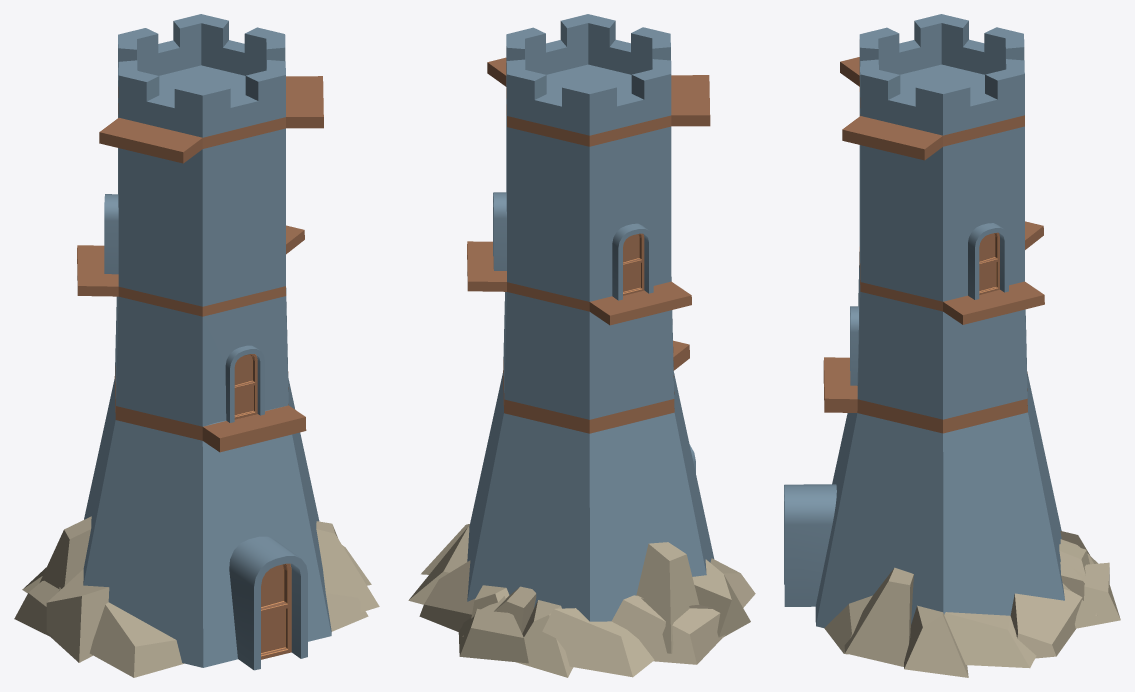
File: Outpost_large.fbx
3 renders of one model, left to right at view 1: azimuth 30°, elevation 25°; view 2: azimuth 150°, elevation 25°; view 3: azimuth 270°, elevation 25°, orthographic.
Visible parts, largest first — view 1: Outpost Large; view 2: Outpost Large; view 3: Outpost Large.
Boxes of the visible parts, x1,y1,x2,y2 form: Outpost Large: (14,14,379,677); Outpost Large: (408,14,755,677); Outpost Large: (784,14,1120,677).
Size of the model in its own units: 608 by 1051 by 585.
